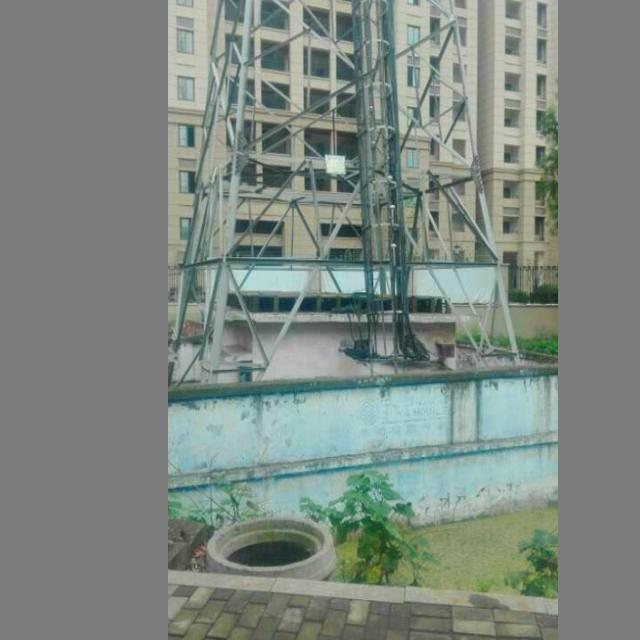lose: (199, 503, 341, 568)
